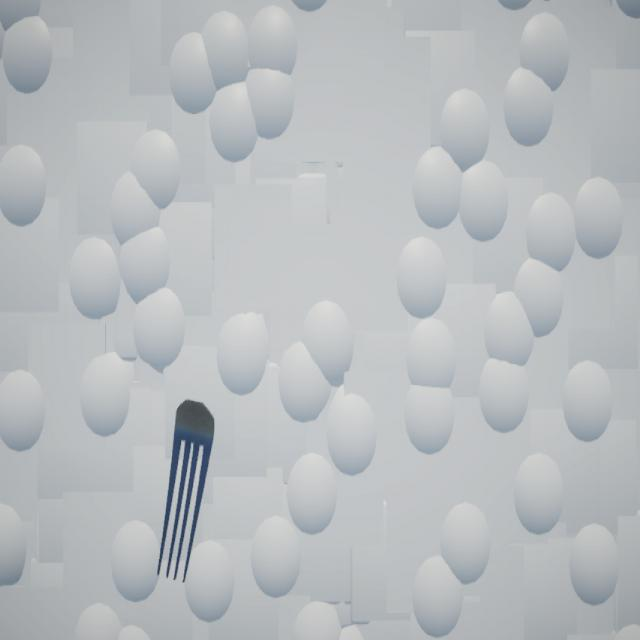top_folk: (158, 400, 216, 584)
